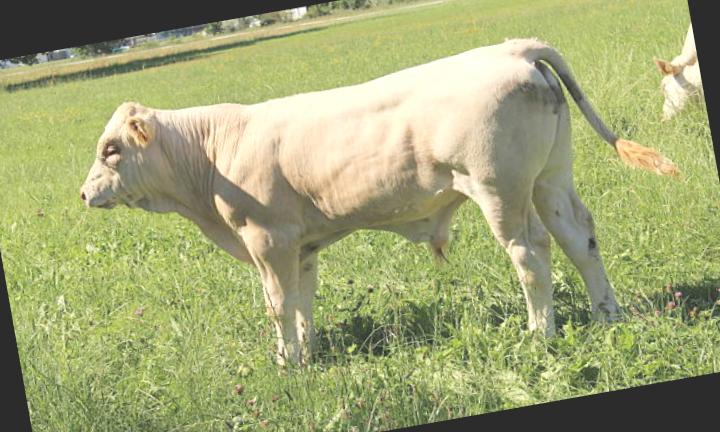Charolais: (82, 38, 678, 364)
